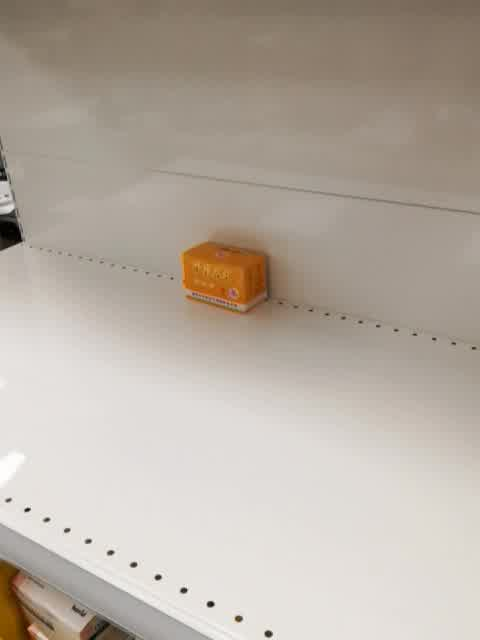jasminetea: (180, 238, 272, 316)
